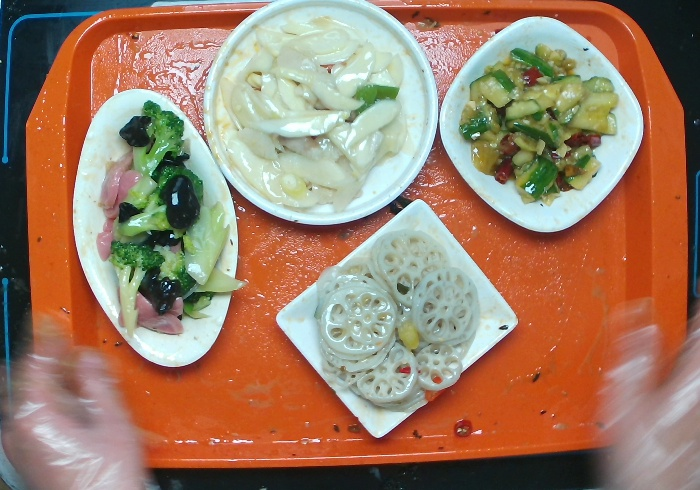HZYJPL-Si_Fang_Die: (269, 195, 524, 444)
HZYJPL-Si_Fang_Yuan_Die: (431, 11, 646, 240)
HZYJPL-Xiao_Yu_Die: (66, 83, 246, 374)
HZYJPL-Xiao_Yuan_Die: (197, 1, 445, 231)
